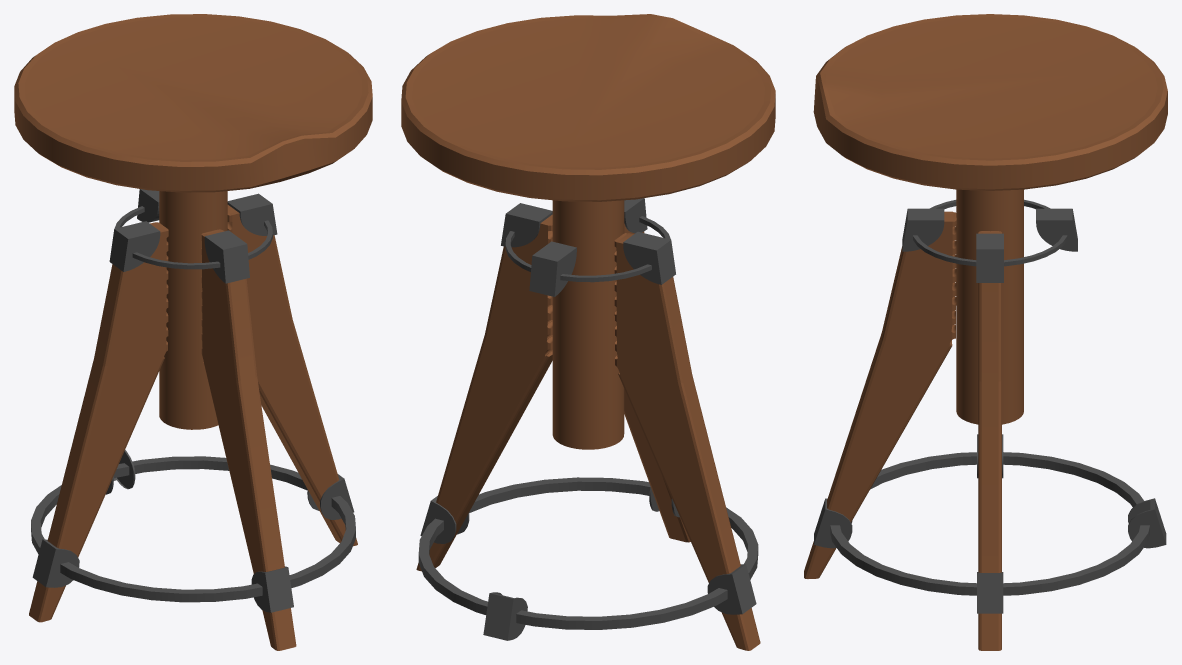
The model's file is Chair.fbx.
3 views of the same model, side by side, from view 1: azimuth 30°, elevation 25°; view 2: azimuth 150°, elevation 25°; view 3: azimuth 270°, elevation 25° (orthographic). The views are drawn at different scales.
Parts seen in each view (by area): view 1: Chair; view 2: Chair; view 3: Chair.
Boxes of the visible parts, left/top/right/bottom form: Chair: left=14, top=14, right=372, bottom=650; Chair: left=401, top=14, right=775, bottom=650; Chair: left=804, top=14, right=1167, bottom=650.
Size of the model in its own units: 0.2801 by 0.418 by 0.2785.
